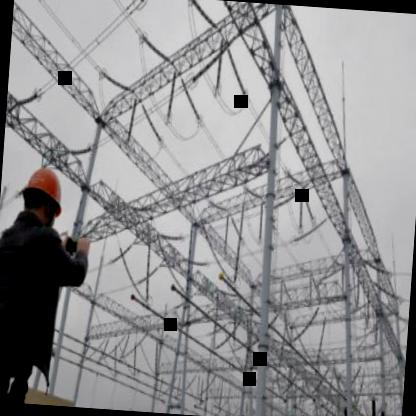helmet: (15, 161, 70, 236)
